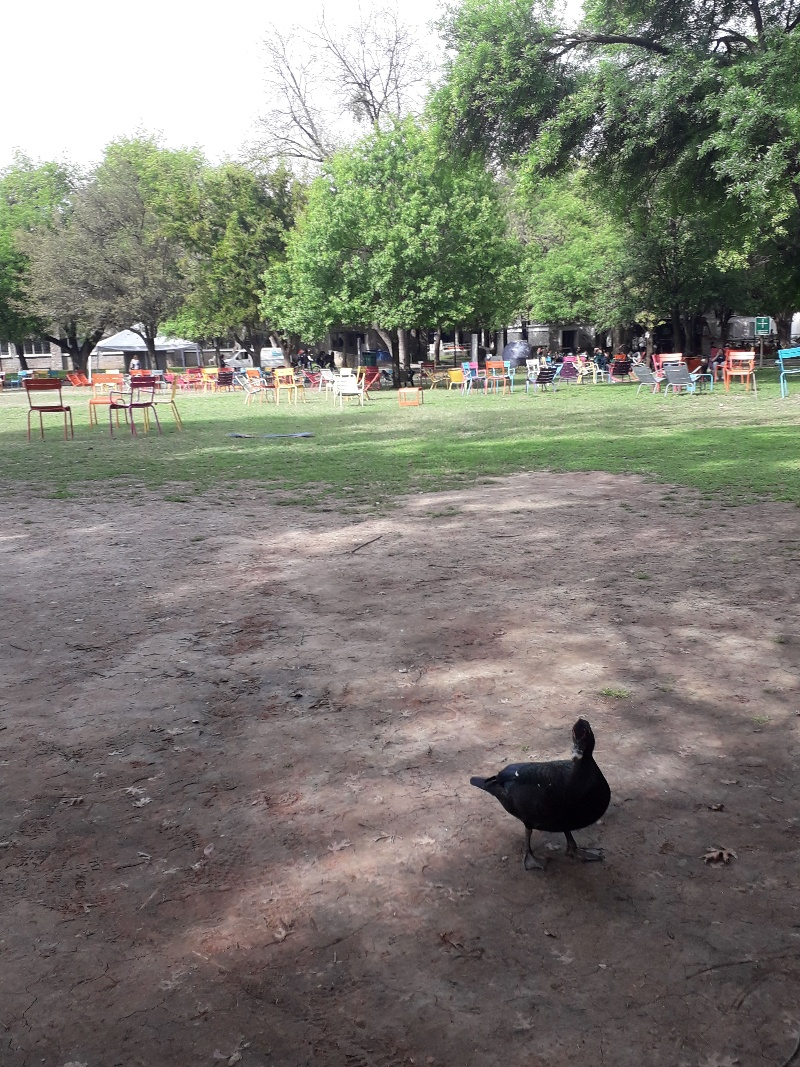pato: (488, 716, 605, 856)
